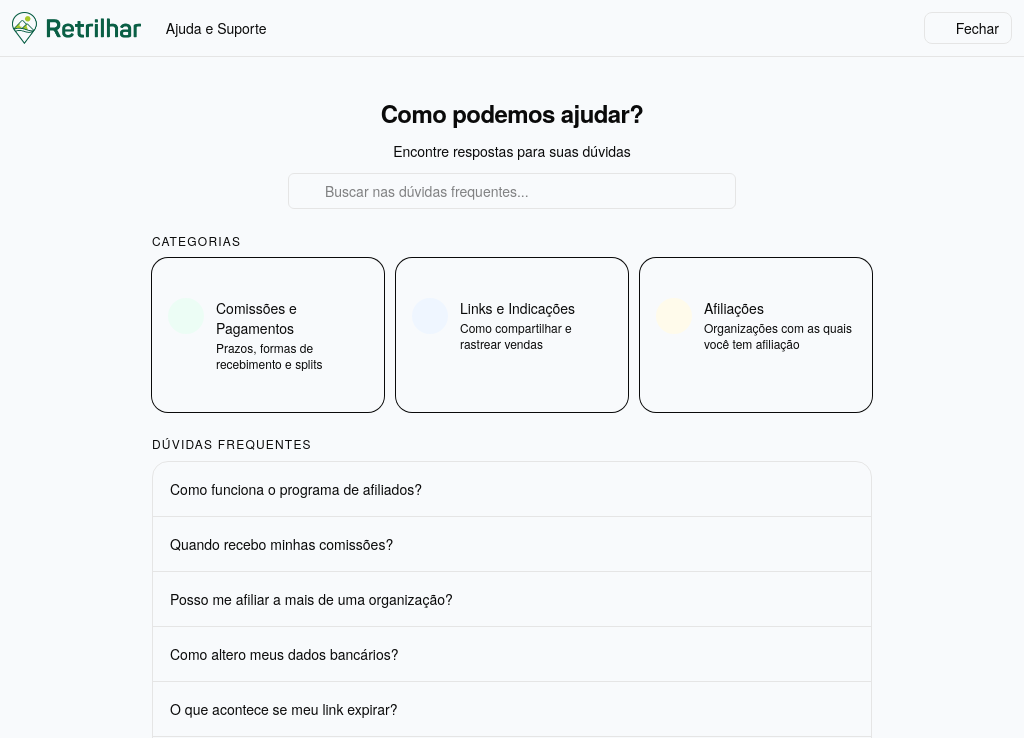
AjudaPage › shows a dedicated empty state when the FAQ has no match
This screenshot has width=1024, height=738.
Type "semresultadozz" into the search field labelled "Buscar nas dúvidas frequentes" at (512, 191), box x1=288 y1=173 x2=736 y2=209
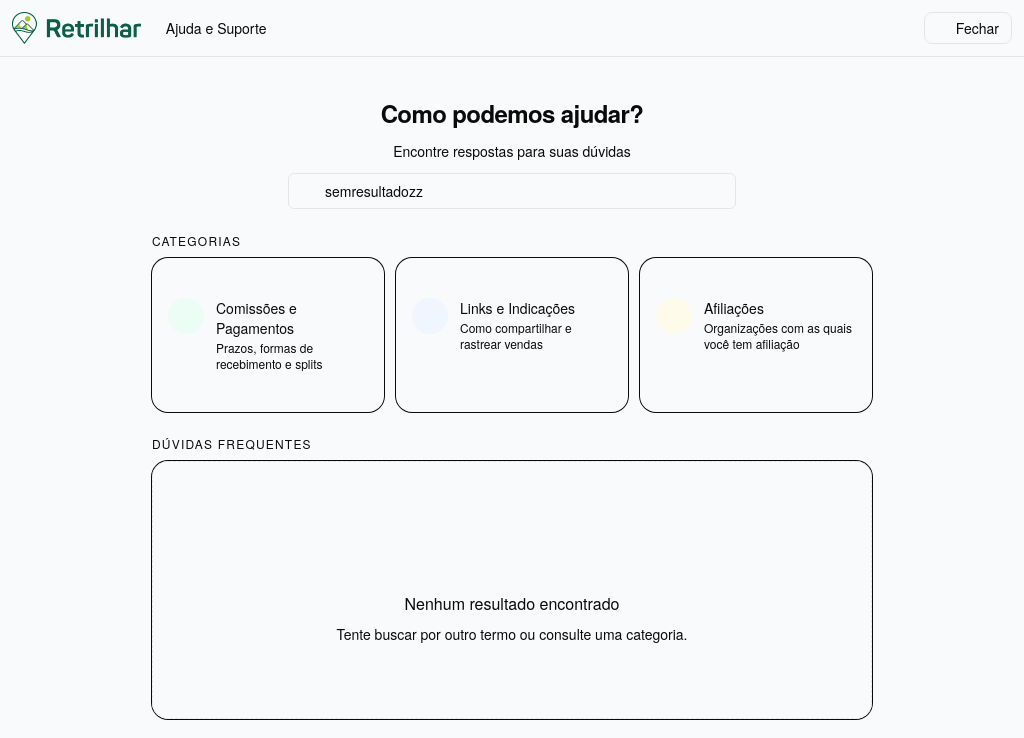
Now the heading "Nenhum resultado encontrado" is shown, box x1=404 y1=592 x2=620 y2=616
Now the text "Tente buscar por outro termo ou consulte uma categoria." is shown, box x1=336 y1=624 x2=688 y2=644
